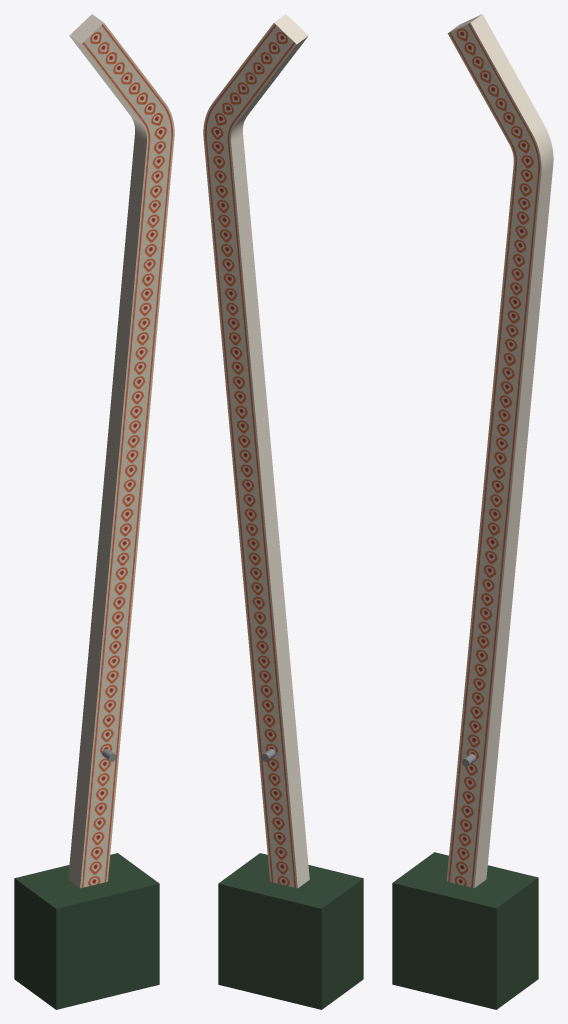
Rendered from AR_Pagode_arm.fbx.
The picture shows the model from 3 angles, left to right: view 1: azimuth 30°, elevation 25°; view 2: azimuth 150°, elevation 25°; view 3: azimuth 330°, elevation 25°; orthographic projection.
Visible parts, largest first — view 1: PG_arm_0_am, PG_beton_groen_0_am, PG_armzijde_0_am; view 2: PG_arm_0_am, PG_beton_groen_0_am, PG_armzijde_0_am; view 3: PG_arm_0_am, PG_beton_groen_0_am, PG_armzijde_0_am.
Boxes of the visible parts, x1,y1,x2,y2 form: PG_arm_0_am: (80,23,174,888); PG_beton_groen_0_am: (14,853,159,1009); PG_armzijde_0_am: (68,14,146,887); PG_arm_0_am: (203,23,297,888); PG_beton_groen_0_am: (218,853,363,1009); PG_armzijde_0_am: (231,14,309,887); PG_arm_0_am: (446,23,541,887); PG_beton_groen_0_am: (392,852,538,1009); PG_armzijde_0_am: (448,14,553,887).
Bounding box in the file's own units: 7.73 × 53.23 × 4.2.
